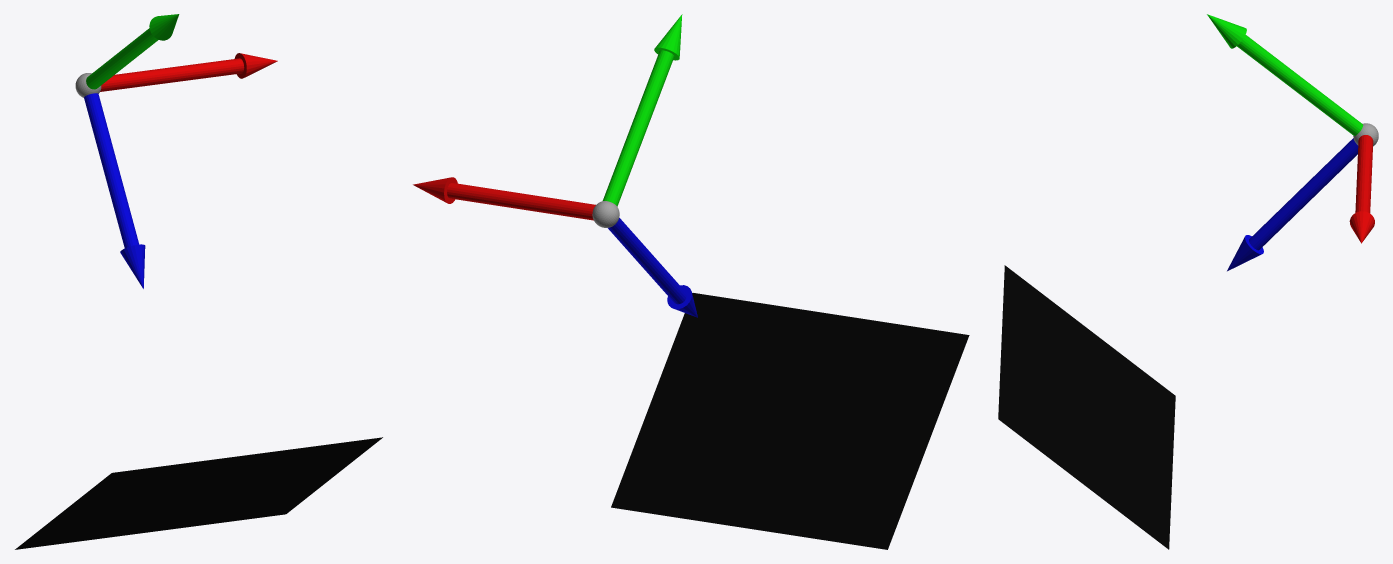
3 renders of one model, left to right at view 1: azimuth 30°, elevation 25°; view 2: azimuth 150°, elevation 25°; view 3: azimuth 270°, elevation 25°, orthographic. The views are drawn at different scales.
Size of the model in its own units: 0.2384 by 0.3217 by 0.2245.
